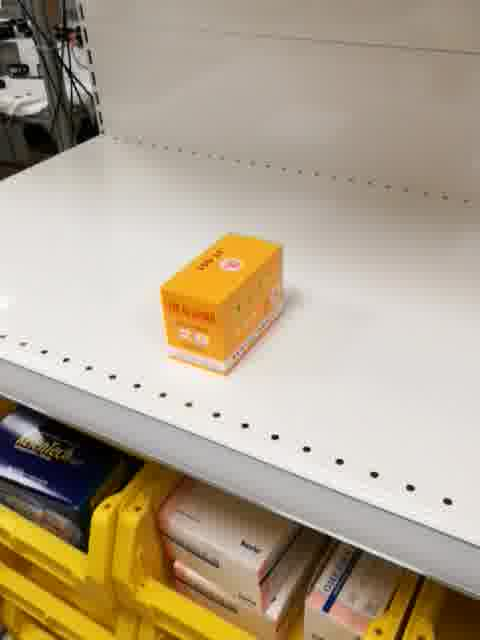jasminetea: (160, 230, 286, 377)
